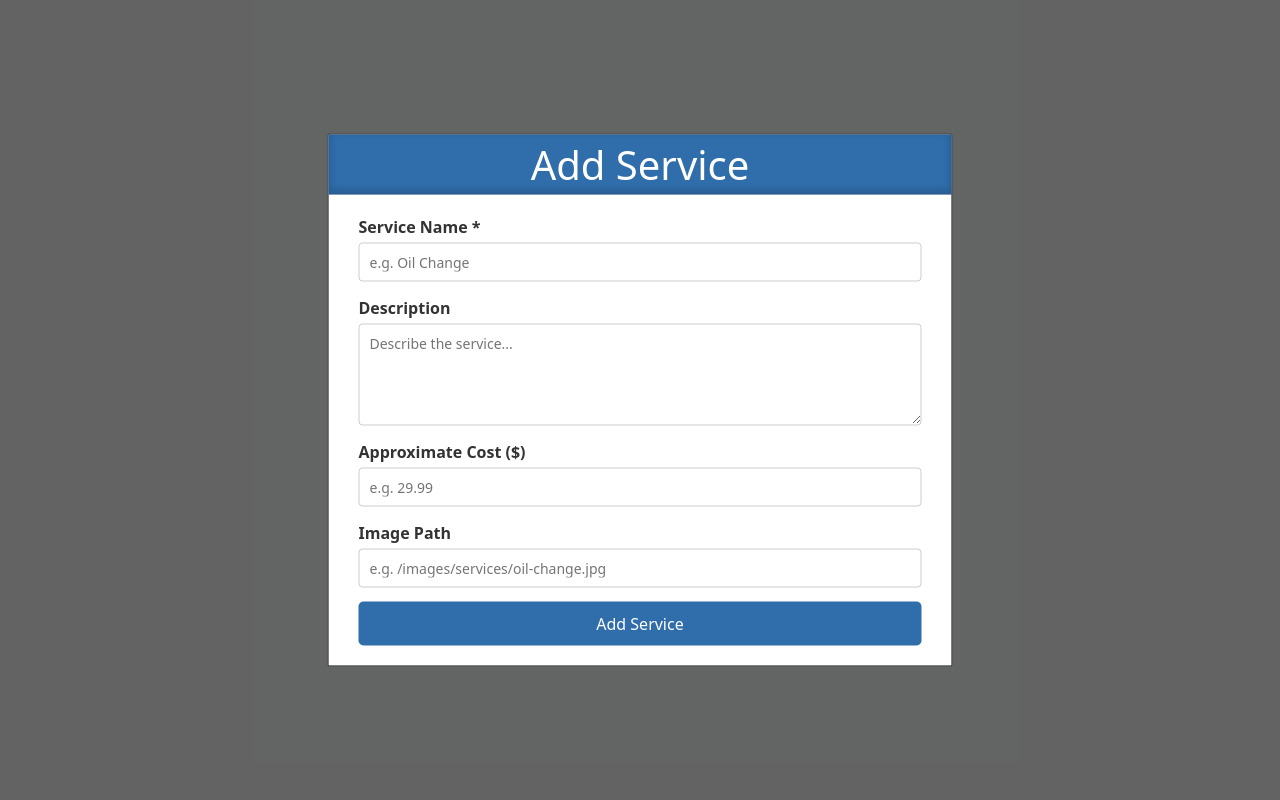
Scenario: ServicesManagementAdd › shows error when submitting empty form
Click the button "Add Service" at (640, 624), box [358,602,922,646]
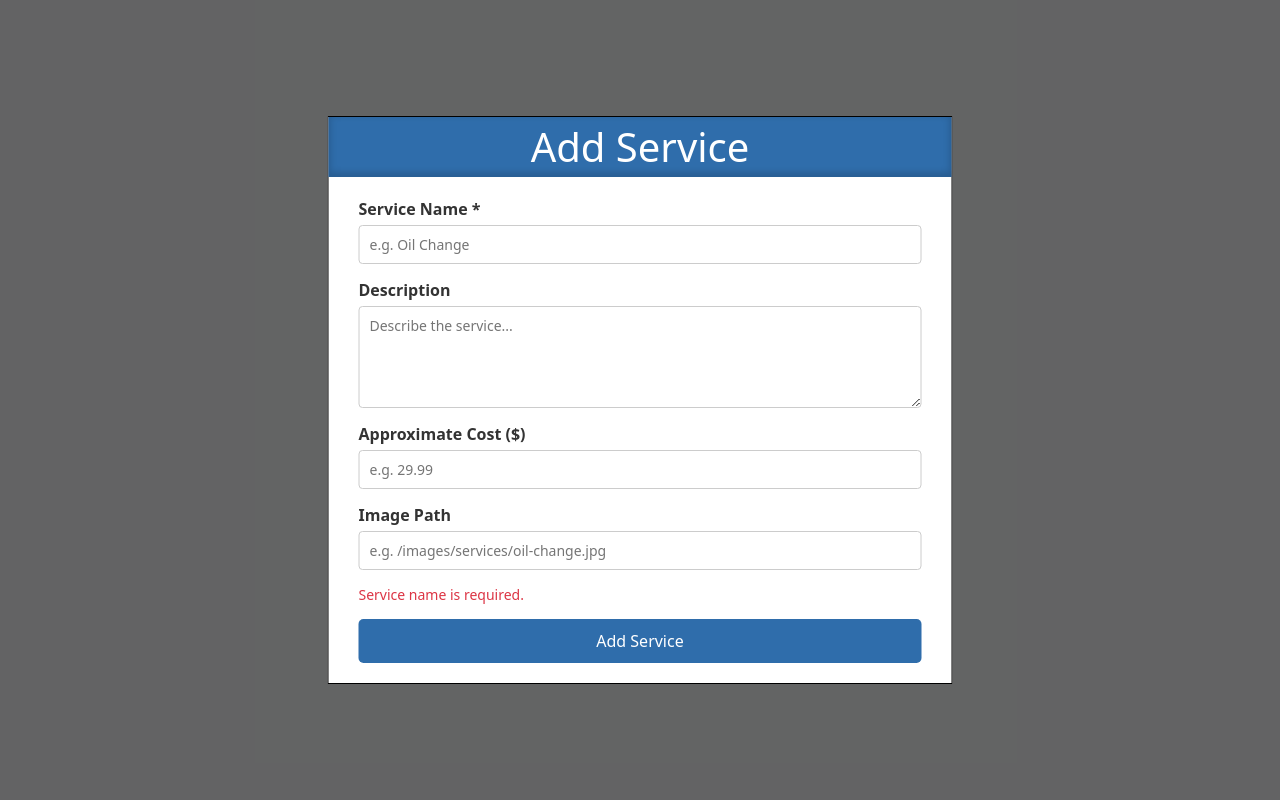
Now the text "Service name is required." is shown, box [358,585,524,604]
